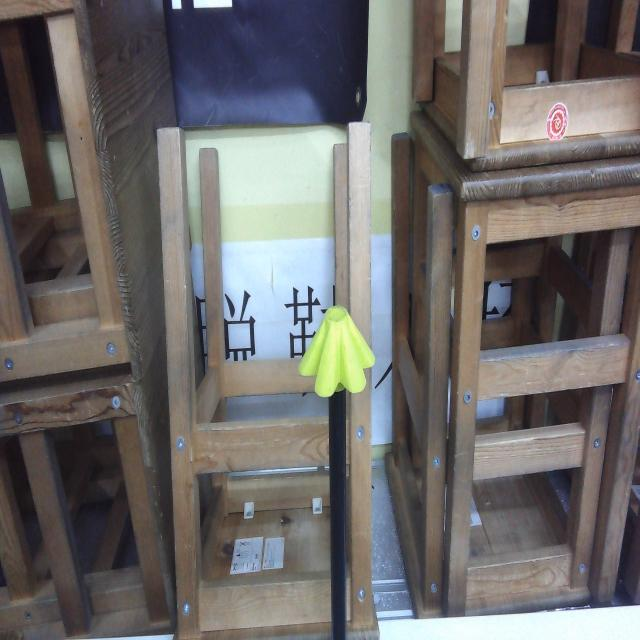Yellow-Stake-Head: (298, 305, 373, 397)
